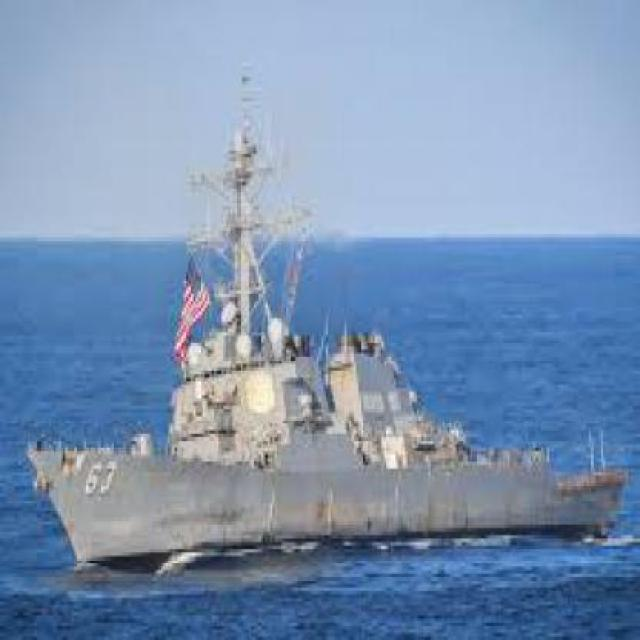warship2: (27, 60, 633, 582)
